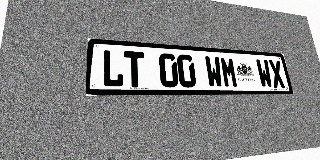0: (158, 53, 179, 87), (176, 54, 196, 88)
L: (102, 49, 124, 87)
M: (220, 57, 239, 88)
T: (124, 51, 145, 87)
W: (204, 56, 224, 88), (255, 59, 274, 88)
X: (268, 60, 286, 88)
